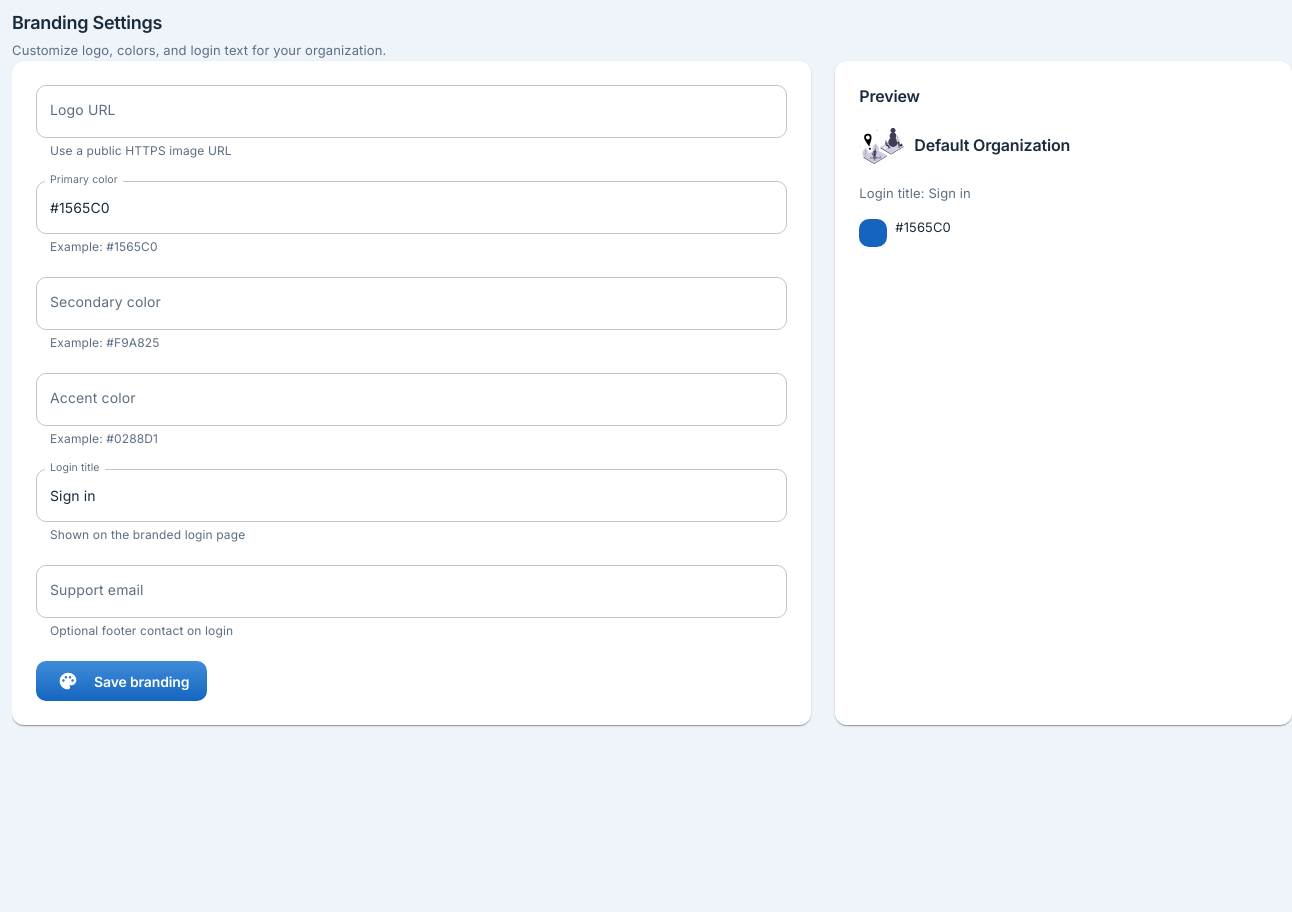
BrandingSettingsPage › shows save error when API fails
Expected: the field showing "#1565C0" is shown, [36,181,787,234]
Click the button "Save branding" at {"x": 122, "y": 681}, box [36,661,207,701]
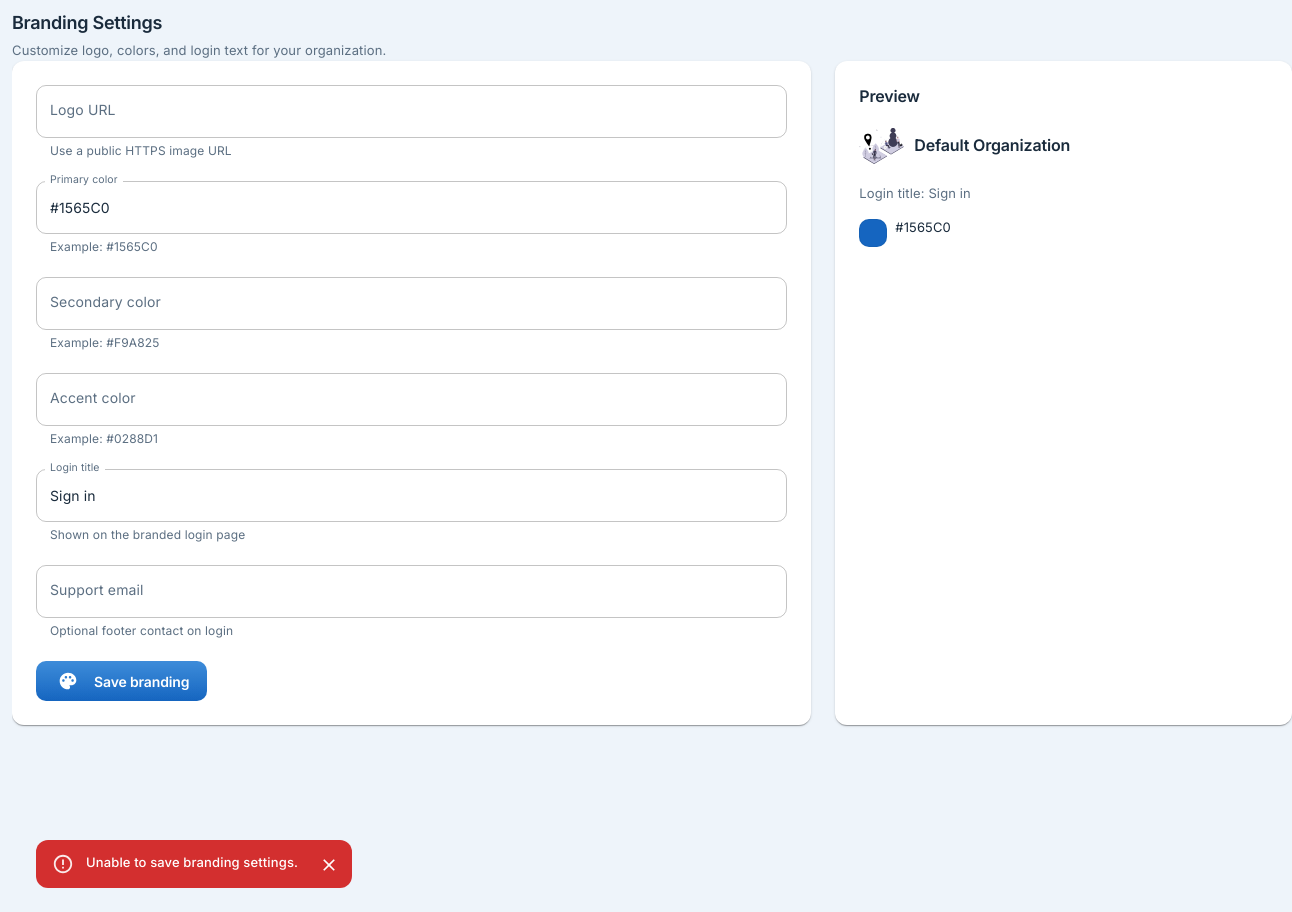
Expected: the text "Unable to save branding settings." is shown, [86,855,298,871]
